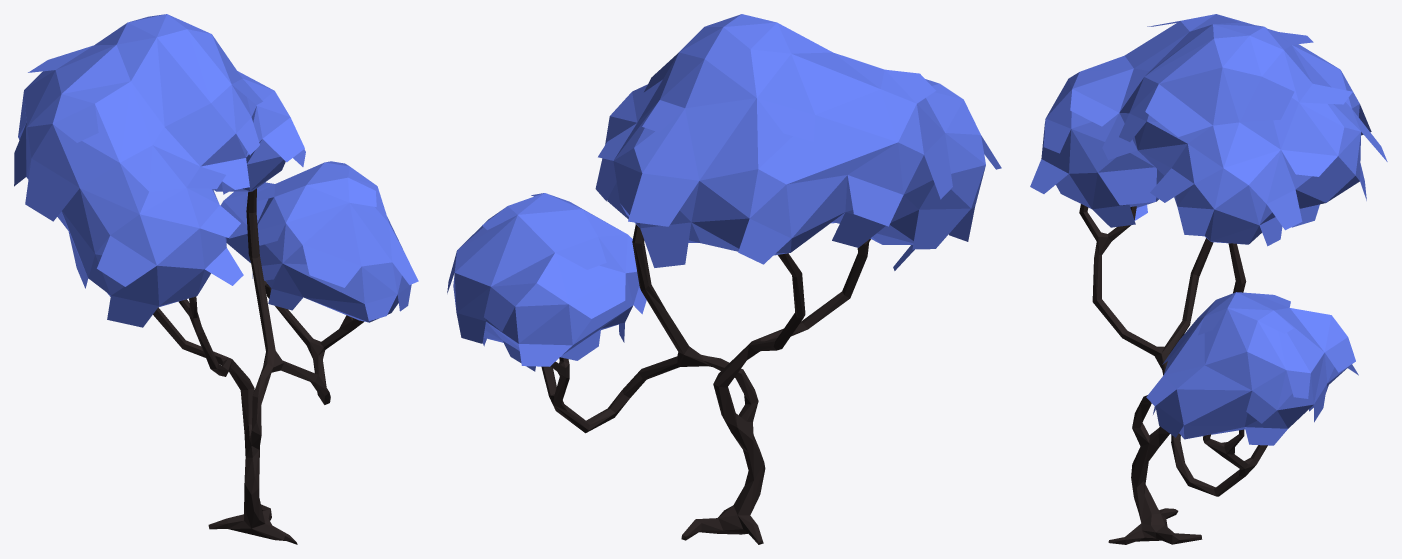
Rendered from Tree_Forest_Blue_01.glb.
The picture shows the model from 3 angles, left to right: view 1: azimuth 30°, elevation 25°; view 2: azimuth 150°, elevation 25°; view 3: azimuth 270°, elevation 25°; orthographic projection. The views are drawn at different scales.
Parts seen in each view (by area): view 1: Tree_Forest_Blue_01; view 2: Tree_Forest_Blue_01; view 3: Tree_Forest_Blue_01.
Part boxes in pixels (x1=…): Tree_Forest_Blue_01: x1=14, y1=14, x2=418, y2=544; Tree_Forest_Blue_01: x1=447, y1=14, x2=1001, y2=544; Tree_Forest_Blue_01: x1=1030, y1=14, x2=1387, y2=544.
Size of what is drawn, in the model's own units: 11.08 by 13.35 by 8.97.
Materials: 1 (1 with a texture image).
